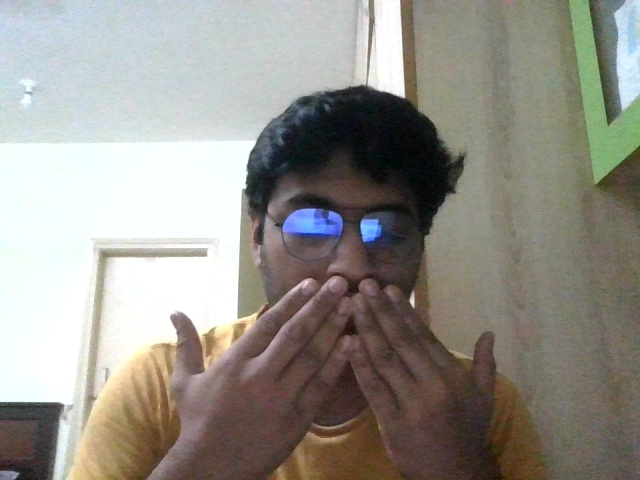thankyou: (170, 276, 497, 480)
